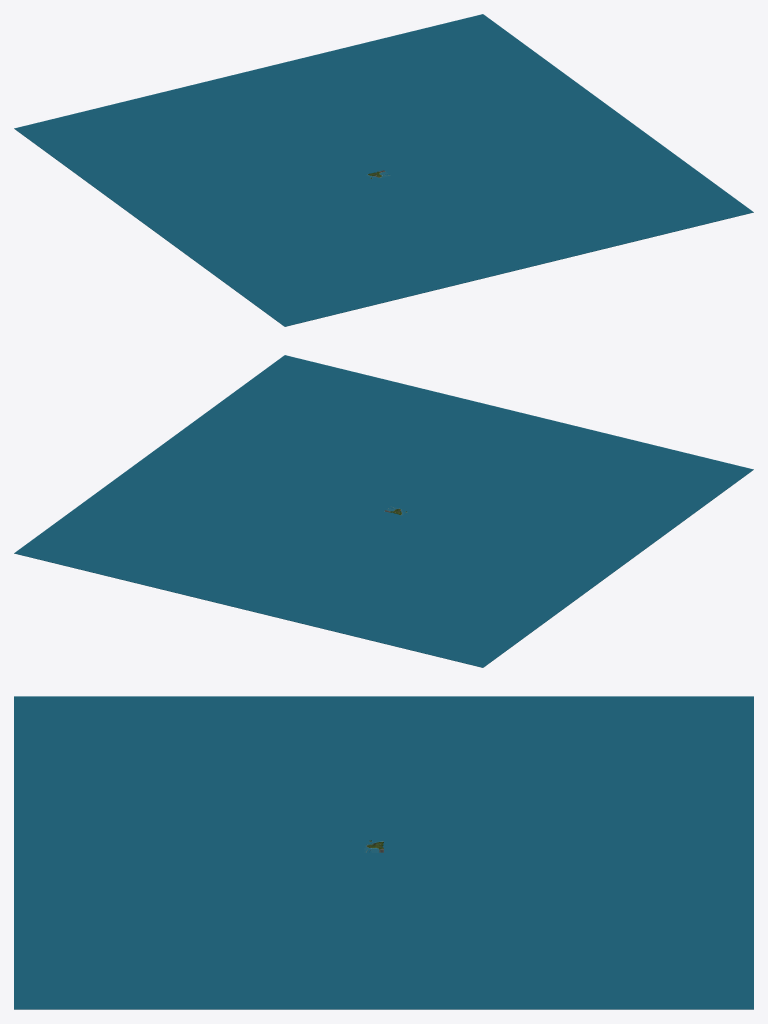
Rendered from coast_base.glb.
3 renders of one model, top to bottom at view 1: azimuth 30°, elevation 25°; view 2: azimuth 150°, elevation 25°; view 3: azimuth 270°, elevation 25°, orthographic. The views are drawn at different scales.
Parts seen in each view (by area): view 1: Water, Seabed; view 2: Water, Seabed; view 3: Water, Seabed.
Boxes of the visible parts, x1,y1,x2,y2 form: Water: [14, 14, 753, 326]; Seabed: [15, 129, 753, 326]; Water: [14, 355, 753, 667]; Seabed: [14, 470, 752, 667]; Water: [14, 696, 753, 1009]; Seabed: [14, 1009, 753, 1009].
Bounding box in the file's own units: 60000 × 166 × 60000.
21 materials, 17 textured.
